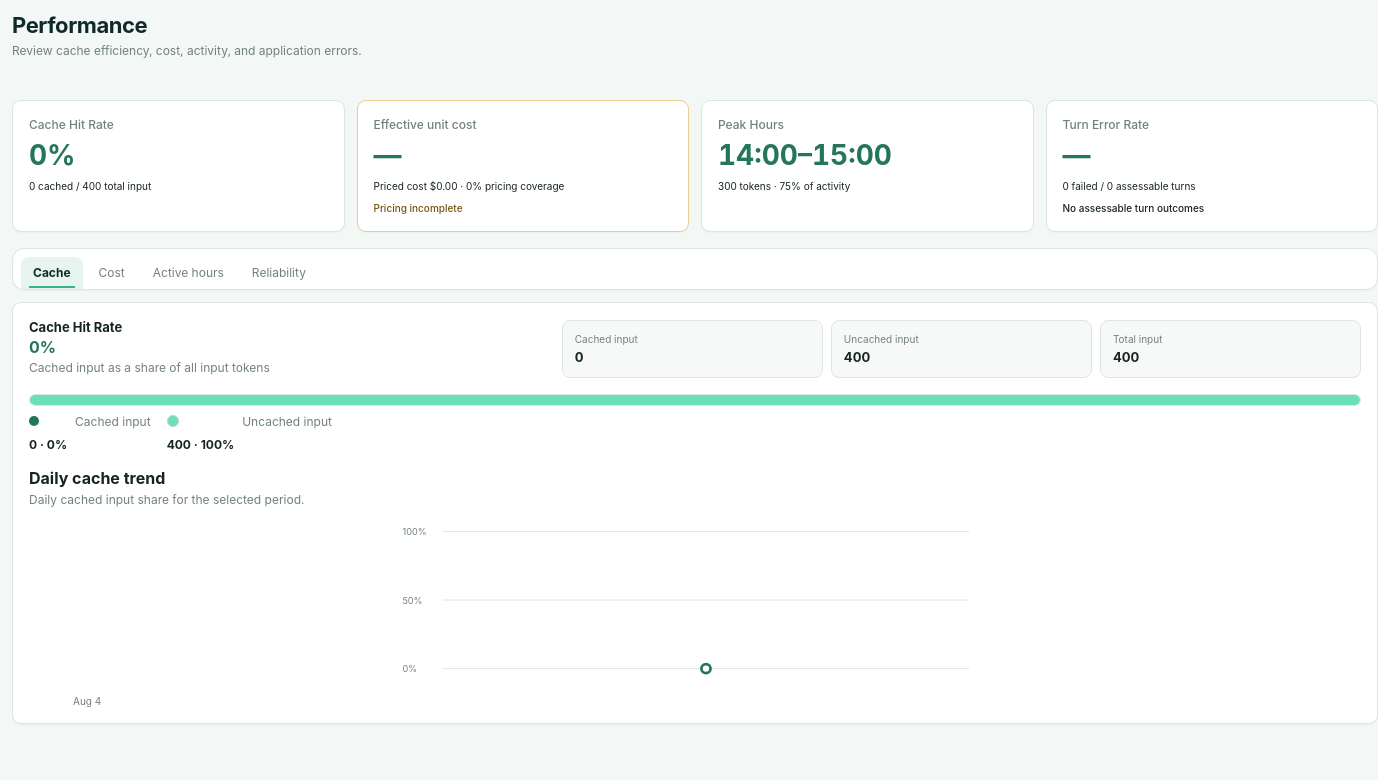
PerformanceView › renders a detailed 24-hour activity distribution and peak summary
This screenshot has width=1378, height=780.
Click the tab "Active hours" at (188, 273), box left=141, top=257, right=236, bottom=289
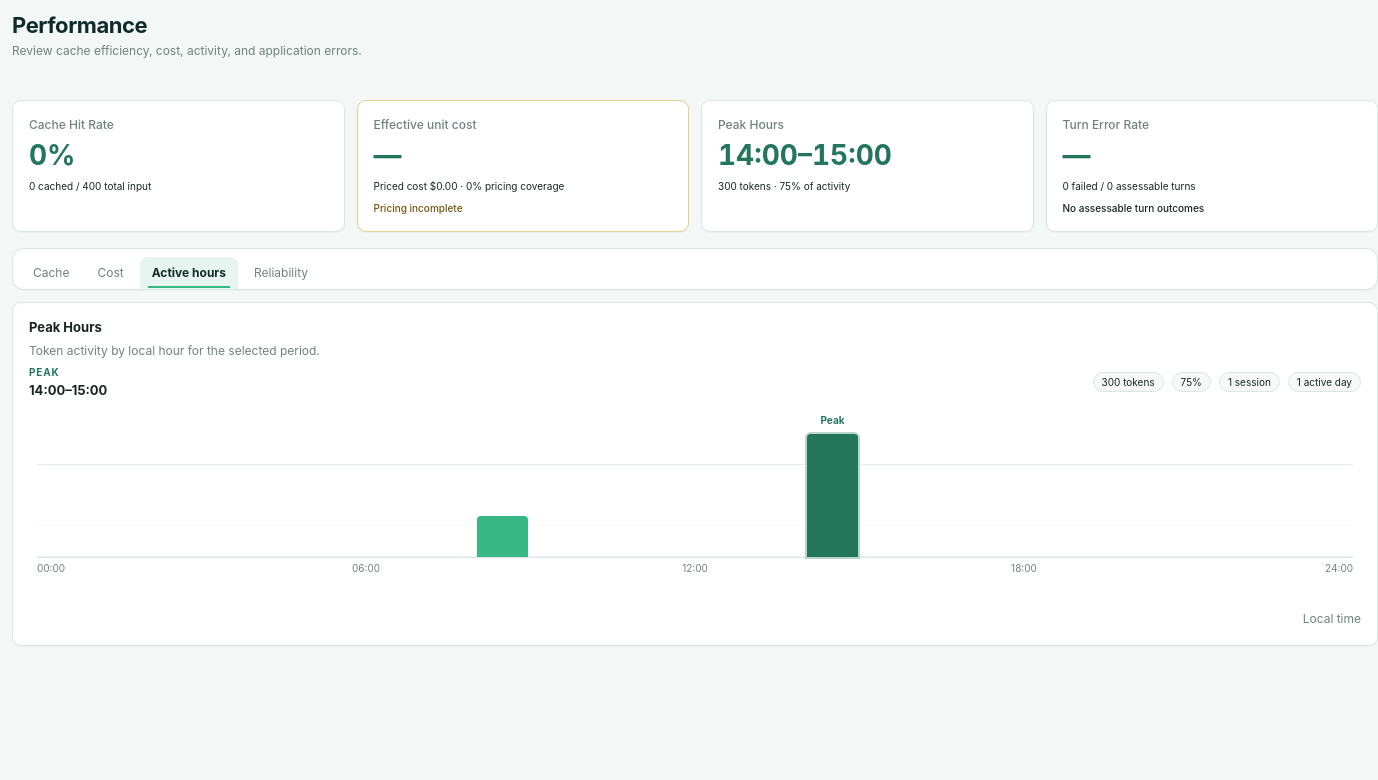
Result: the text "300 tokens" is shown at left=1092, top=372, right=1164, bottom=392
Result: the text "75%" is shown at left=1172, top=372, right=1211, bottom=392
Result: the text "1 session" is shown at left=1219, top=372, right=1280, bottom=392
